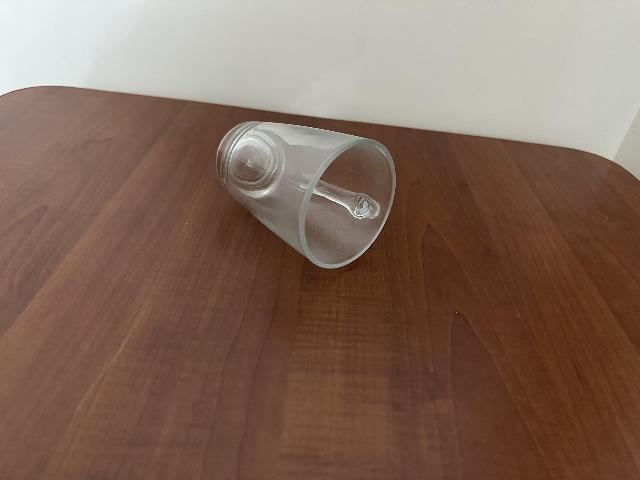Cam: (210, 108, 400, 275)
